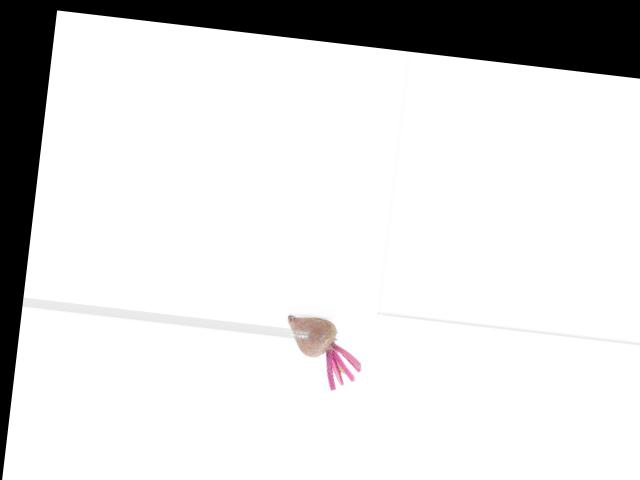beet: (279, 314, 366, 393)
